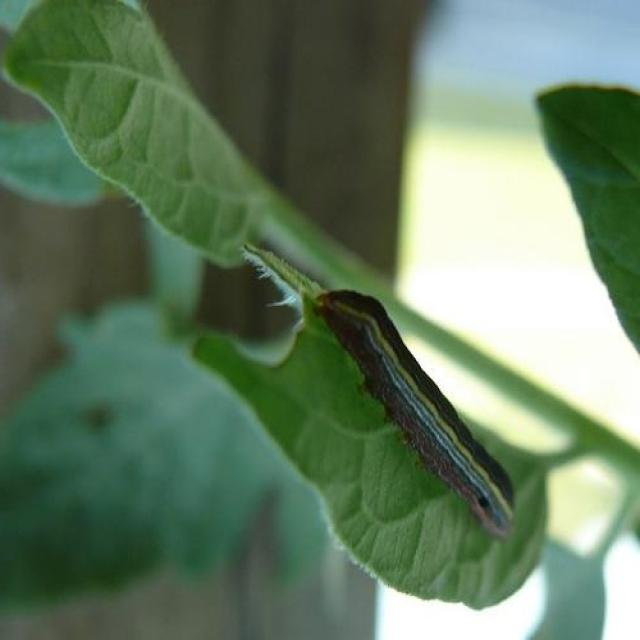army worm: (303, 285, 521, 544)
